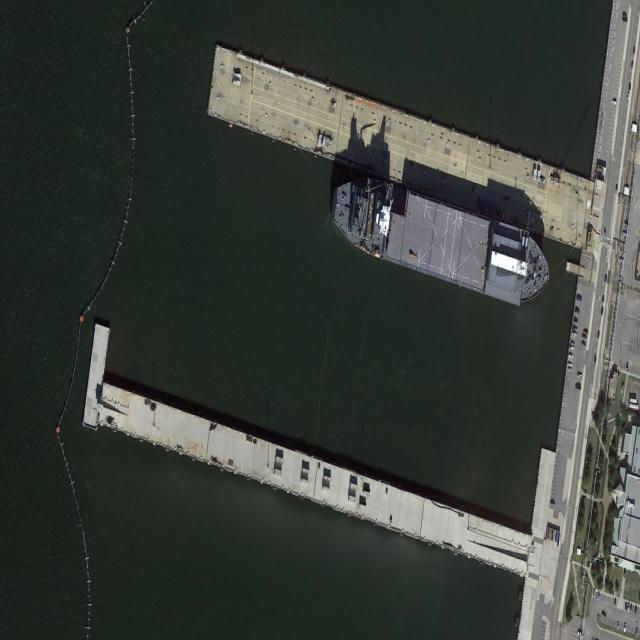ship: (329, 169, 553, 319)
small-vehicle: (635, 628, 639, 638), (576, 385, 582, 391), (622, 16, 628, 22), (594, 355, 597, 365), (604, 272, 607, 282), (593, 590, 596, 599), (597, 330, 600, 339), (602, 294, 605, 303), (630, 603, 633, 612), (634, 605, 637, 614), (612, 100, 617, 105), (573, 318, 578, 323), (578, 631, 583, 636), (602, 611, 607, 616), (572, 328, 578, 332), (576, 297, 582, 301), (597, 593, 600, 601), (617, 622, 620, 630), (575, 308, 579, 313), (582, 341, 586, 346), (568, 363, 573, 367), (578, 374, 583, 378), (572, 332, 577, 336), (624, 623, 626, 633), (626, 362, 628, 371), (628, 92, 630, 101), (603, 231, 606, 237), (601, 307, 603, 316), (631, 60, 633, 69), (625, 601, 627, 610), (628, 603, 630, 612), (614, 597, 616, 606), (569, 355, 573, 359), (629, 82, 631, 90), (633, 47, 635, 55), (550, 500, 554, 504), (570, 343, 575, 346), (619, 259, 624, 262), (616, 184, 618, 191), (583, 332, 587, 335), (568, 368, 572, 371), (571, 347, 575, 350)
